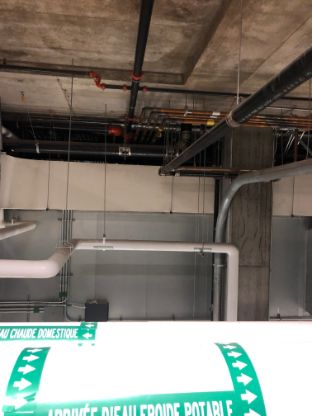Duct: (1, 149, 312, 212)
